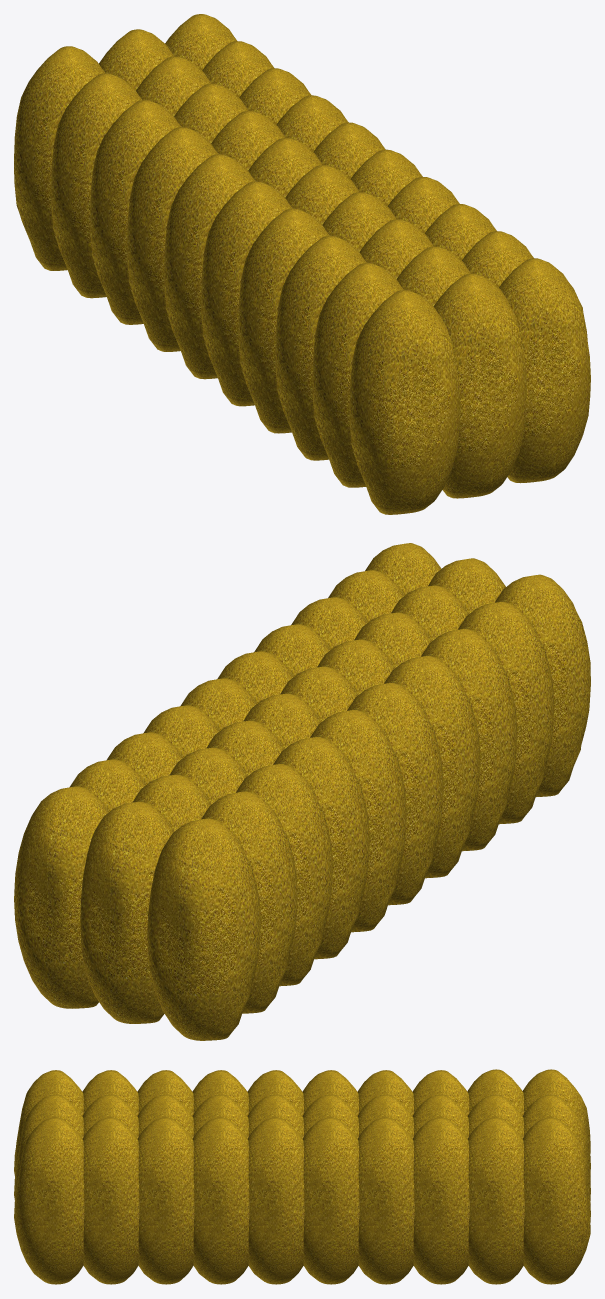
The model's file is Eggs.FBX.
3 views of the same model, one above another, from view 1: azimuth 30°, elevation 25°; view 2: azimuth 150°, elevation 25°; view 3: azimuth 270°, elevation 25° (orthographic). The views are drawn at different scales.
Parts seen in each view (by area): view 1: Sphere035, Sphere045, Sphere055, Sphere027, Sphere029, Sphere030, Sphere033, Sphere031, Sphere032, Sphere034, Sphere028, Sphere026 (+18 smaller); view 2: Sphere026, Sphere036, Sphere046, Sphere029, Sphere027, Sphere034, Sphere030, Sphere035, Sphere031, Sphere032, Sphere033, Sphere028 (+18 smaller); view 3: Sphere055, Sphere046, Sphere054, Sphere052, Sphere053, Sphere051, Sphere047, Sphere050, Sphere048, Sphere049, Sphere035, Sphere026 (+18 smaller).
Part boxes in pixels (x1,y1,x2,y2): Sphere035: (349,290,460,514); Sphere045: (433,273,526,498); Sphere055: (499,258,590,483); Sphere027: (51,73,141,298); Sphere029: (127,127,218,351); Sphere030: (164,154,255,379); Sphere033: (275,235,366,460); Sphere031: (201,181,292,406); Sphere032: (238,208,329,433); Sphere034: (312,263,403,487); Sphere028: (90,100,181,324); Sphere026: (14,46,104,270); Sphere026: (147,818,260,1040); Sphere036: (80,801,174,1023); Sphere046: (14,786,108,1008); Sphere029: (273,737,369,959); Sphere027: (201,791,297,1013); Sphere034: (457,601,553,824); Sphere030: (310,710,406,932); Sphere035: (495,574,590,796); Sphere031: (347,682,443,905); Sphere032: (384,655,480,878); Sphere033: (421,628,516,851); Sphere028: (236,764,332,986); Sphere055: (14,1117,84,1284); Sphere046: (522,1117,590,1284); Sphere054: (82,1117,139,1284); Sphere052: (192,1117,249,1284); Sphere053: (137,1117,194,1284); Sphere051: (247,1117,304,1284); Sphere047: (467,1117,524,1284); Sphere050: (302,1117,359,1284); Sphere048: (412,1117,469,1284); Sphere049: (357,1117,414,1284); Sphere035: (14,1070,83,1176); Sphere026: (522,1069,590,1180).
Size of the model in its own units: 24.95 by 22.46 by 72.64.
